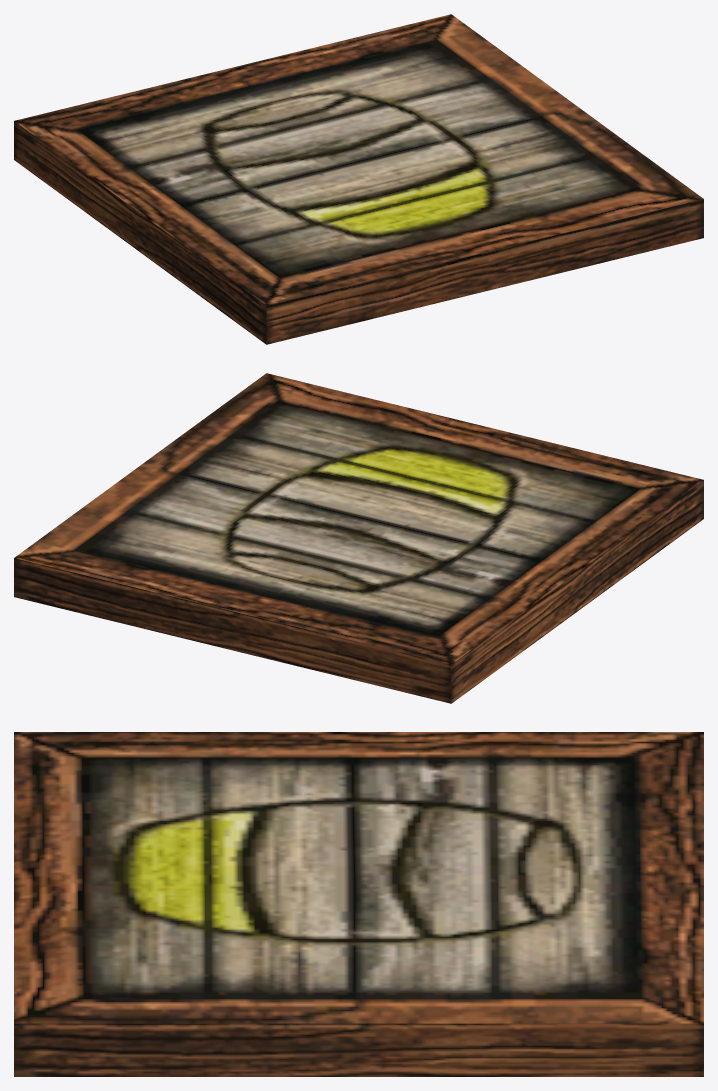
File: INST_LT_PPLATELITE.fbx
The picture shows the model from 3 angles, top to bottom: view 1: azimuth 30°, elevation 25°; view 2: azimuth 150°, elevation 25°; view 3: azimuth 270°, elevation 25°; orthographic projection. The views are drawn at different scales.
Parts seen in each view (by area): view 1: INST_LT_PPLATELITE; view 2: INST_LT_PPLATELITE; view 3: INST_LT_PPLATELITE.
Boxes of the visible parts, left/top/right/bottom form: INST_LT_PPLATELITE: left=14, top=14, right=703, bottom=344; INST_LT_PPLATELITE: left=14, top=373, right=703, bottom=703; INST_LT_PPLATELITE: left=14, top=732, right=703, bottom=1076.
Size of the model in its own units: 20000 by 1705 by 20000.
Materials: 2 (2 with a texture image).
